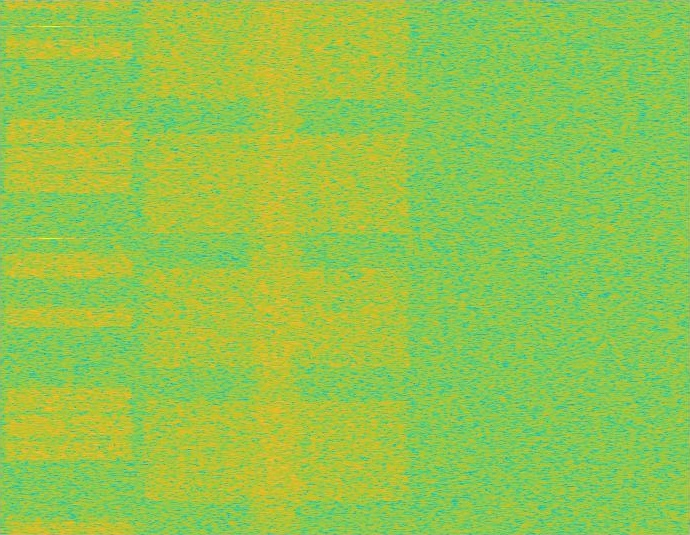5G: (138, 0, 414, 534)
DSSS: (245, 0, 307, 534)
LTE: (0, 0, 138, 534)
Radar: (44, 0, 58, 534)
